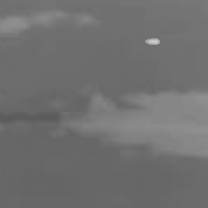Target: (144, 37, 161, 46)
